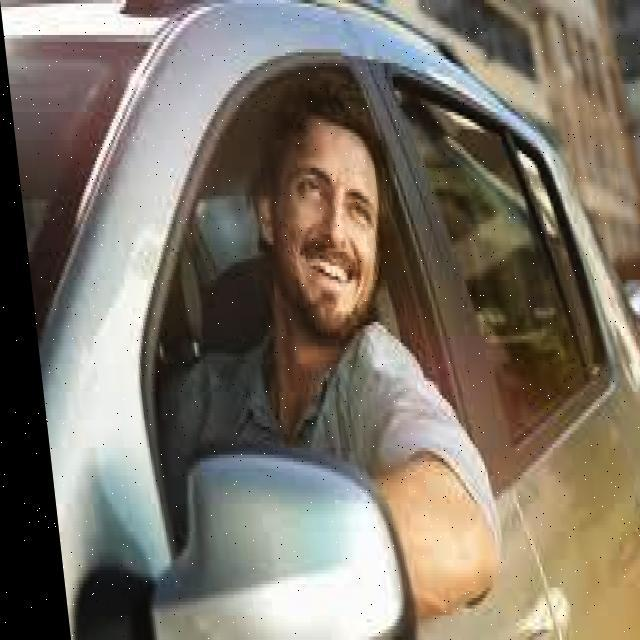noSeatbelt: (153, 288, 450, 508)
